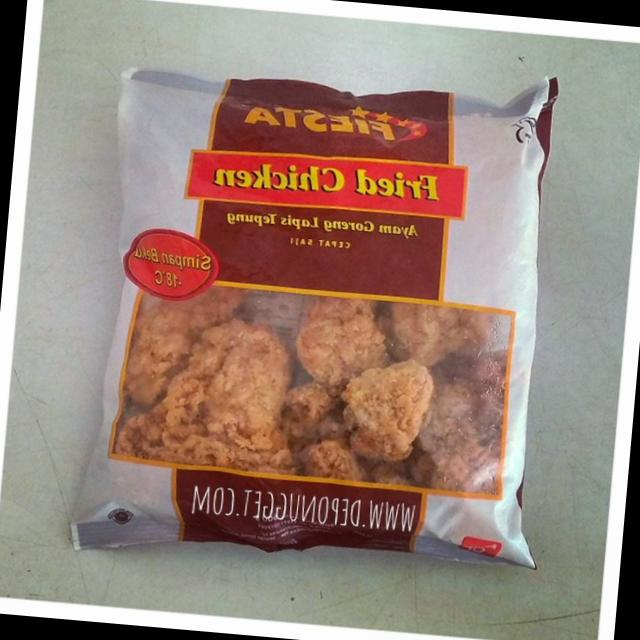KemasanPlastik: (57, 31, 581, 602)
